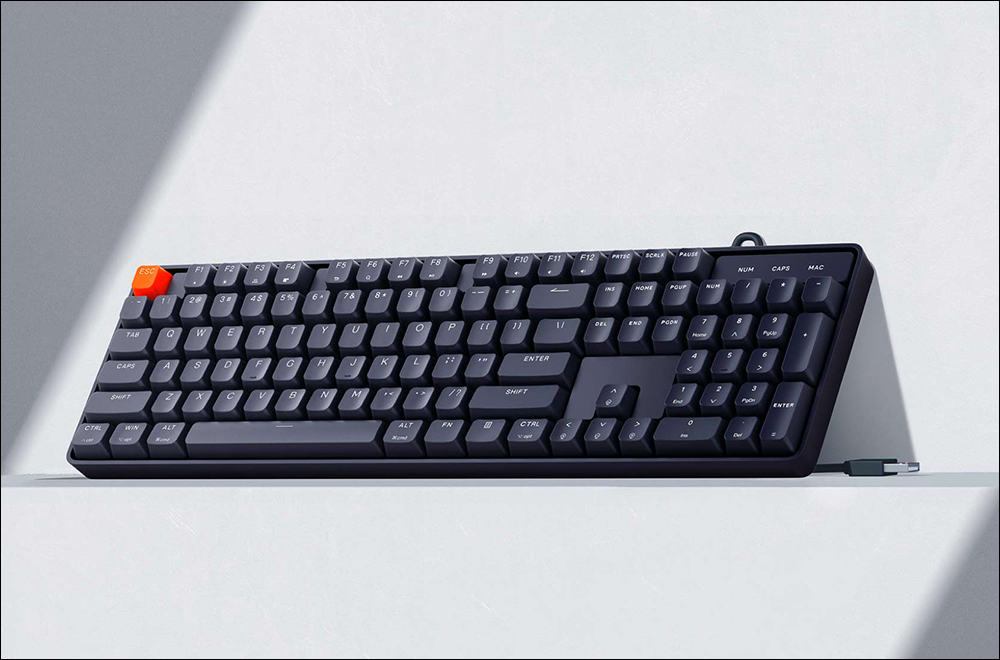keyboard: (63, 239, 882, 487)
